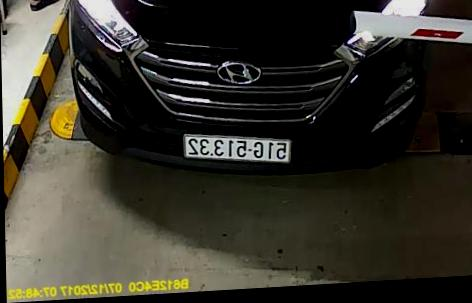License_Plate: (177, 128, 299, 173)
